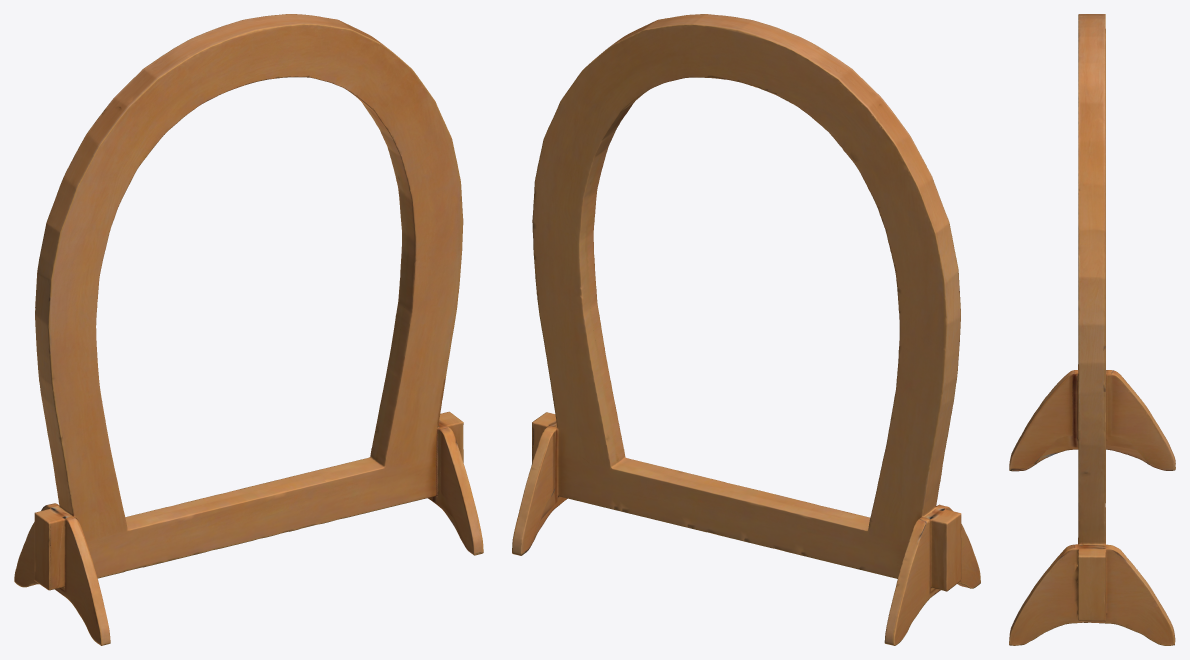
The model's file is MirrorFrame2.fbx.
The picture shows the model from 3 angles, left to right: view 1: azimuth 30°, elevation 25°; view 2: azimuth 150°, elevation 25°; view 3: azimuth 270°, elevation 25°; orthographic projection. The views are drawn at different scales.
Visible parts, largest first — view 1: Mesh_0.001; view 2: Mesh_0.001; view 3: Mesh_0.001.
Boxes of the visible parts, x1,y1,x2,y2 form: Mesh_0.001: (14, 14, 483, 645); Mesh_0.001: (512, 14, 980, 645); Mesh_0.001: (1009, 14, 1175, 645).
Size of the model in its own units: 160 by 200 by 58.17.
1 material, 1 textured.
